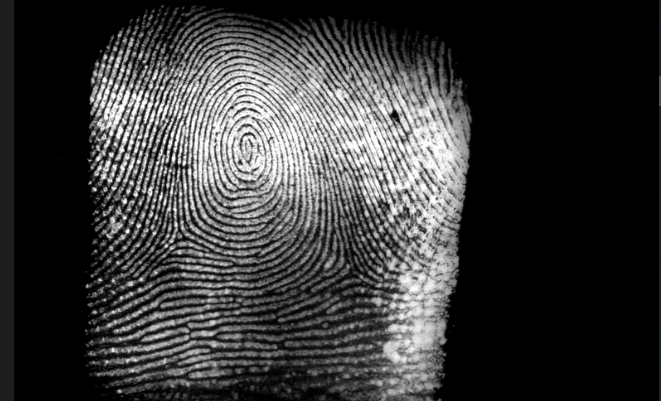deltas: (323, 243, 380, 292), (159, 200, 205, 253)
nucleo: (216, 117, 274, 178)
